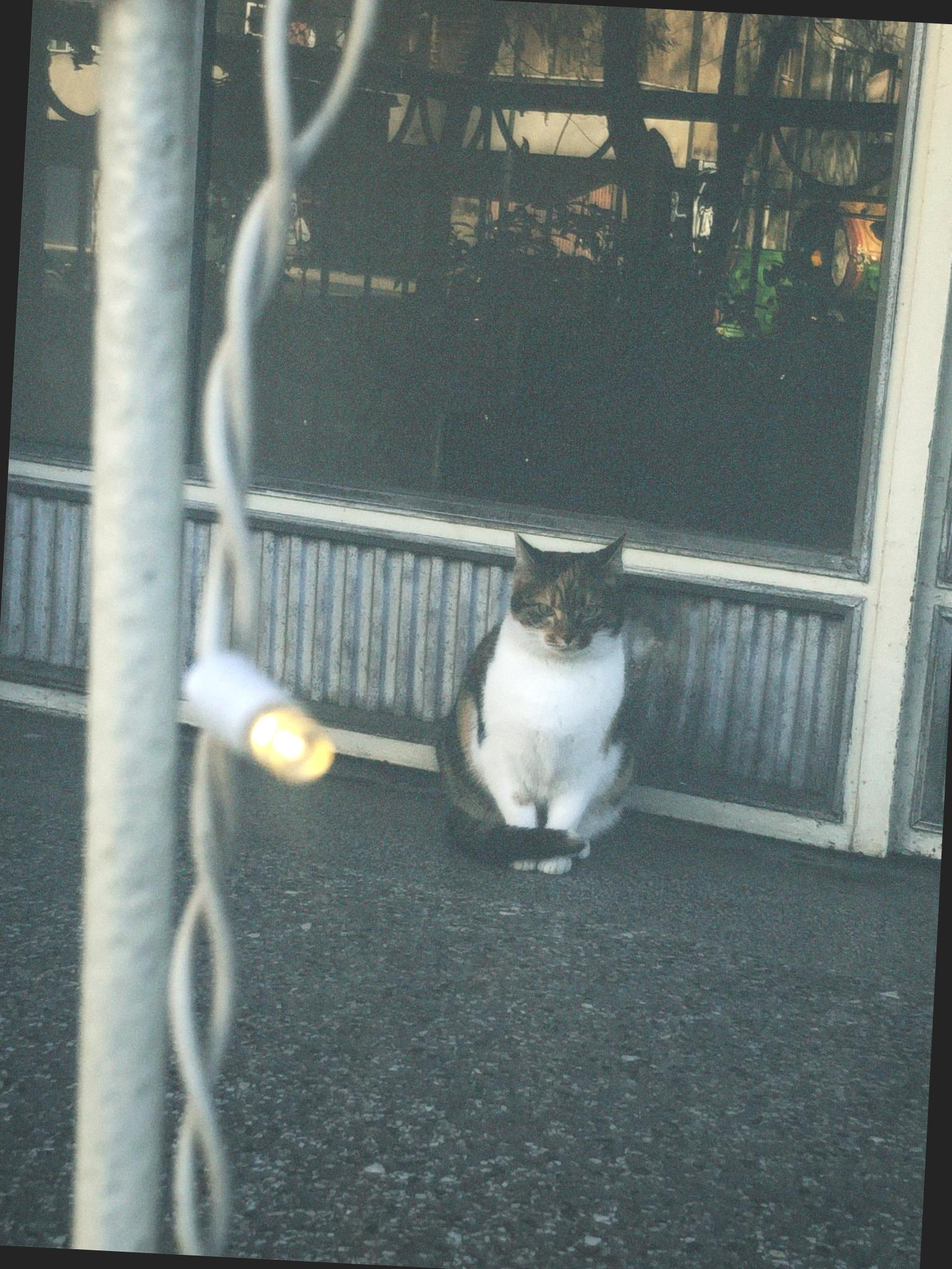macka: (428, 521, 644, 881)
